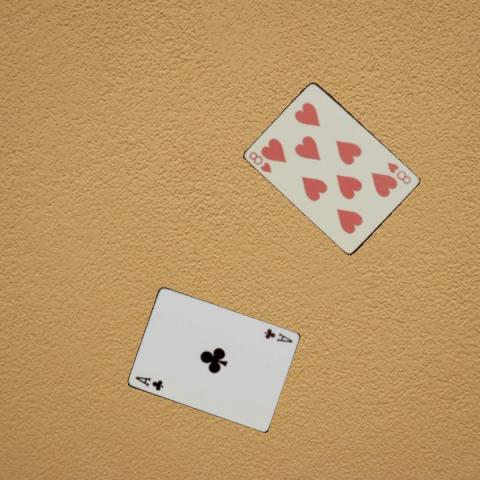8h: (384, 160, 412, 186), (246, 149, 273, 174)
Ac: (261, 325, 294, 344), (133, 373, 165, 392)
